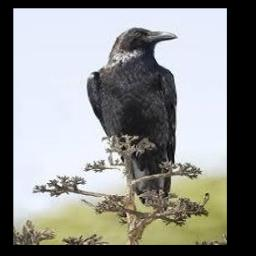Crow: (88, 28, 178, 213)
